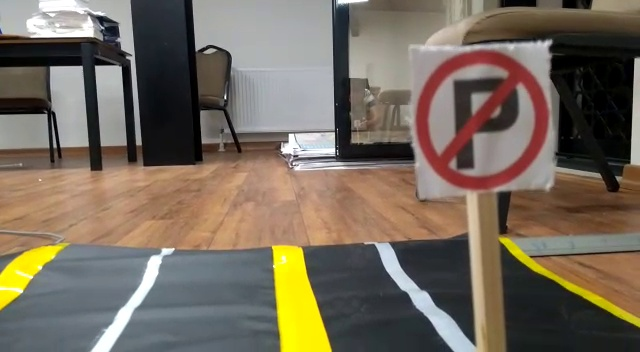park_yapilmaz: (408, 43, 550, 192)
